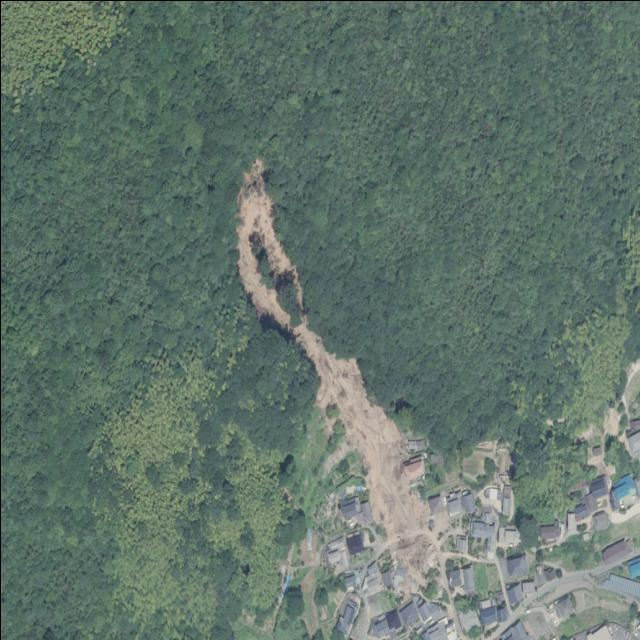landslide: (236, 158, 421, 541)
